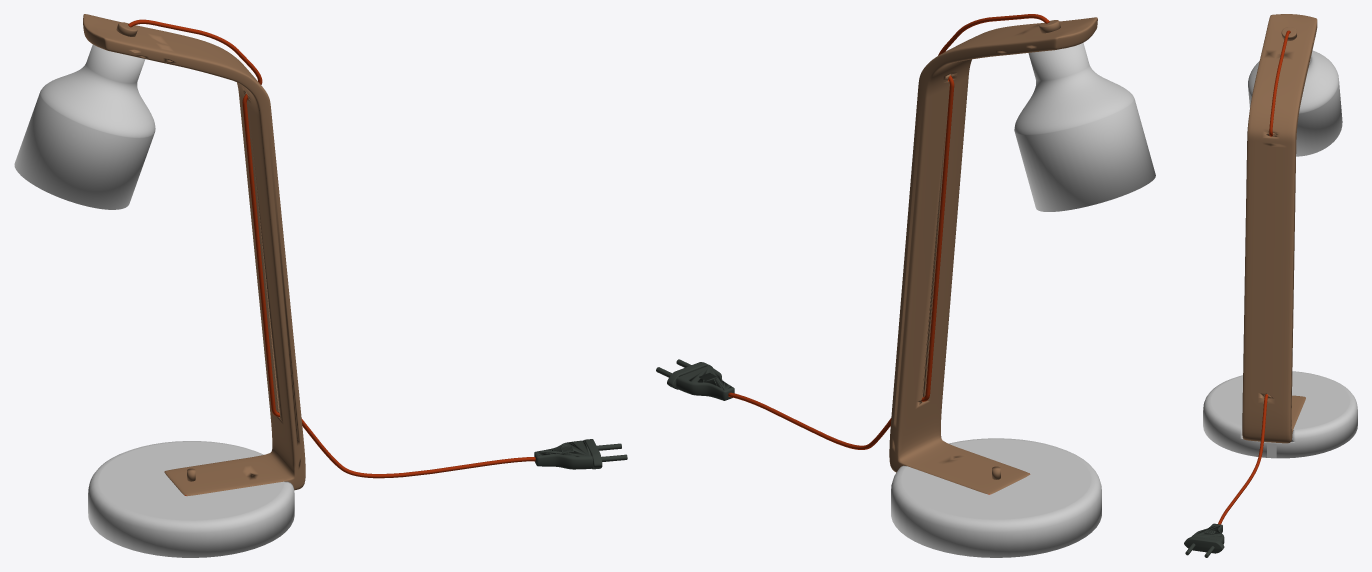
The model's file is Lamp_fbx.fbx.
3 renders of one model, left to right at view 1: azimuth 30°, elevation 25°; view 2: azimuth 150°, elevation 25°; view 3: azimuth 270°, elevation 25°, orthographic. The views are drawn at different scales.
Parts seen in each view (by area): view 1: Table_Lamp:Table_Lamp_1; view 2: Table_Lamp:Table_Lamp_1; view 3: Table_Lamp:Table_Lamp_1.
Boxes of the visible parts, x1,y1,x2,y2 form: Table_Lamp:Table_Lamp_1: (14,14,627,557); Table_Lamp:Table_Lamp_1: (656,14,1155,557); Table_Lamp:Table_Lamp_1: (1184,14,1357,557).
Size of the model in its own units: 42.64 by 38.03 by 15.9.
